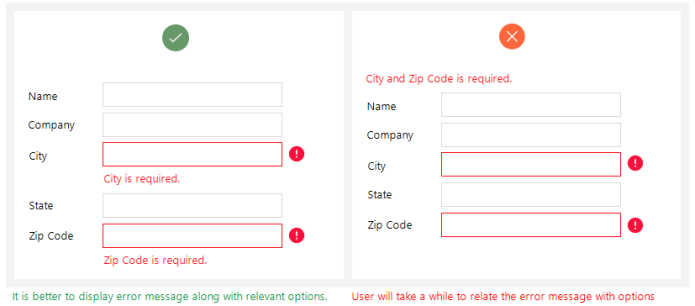error_field: (440, 151, 623, 179), (100, 141, 282, 167), (440, 212, 622, 238), (101, 223, 284, 248)
error_message: (351, 289, 656, 301), (366, 71, 514, 85), (103, 254, 210, 265), (102, 173, 182, 186)
